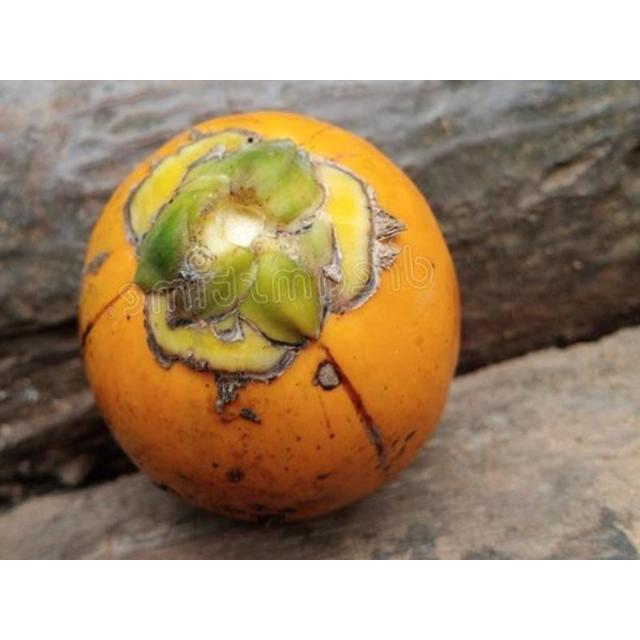good: (80, 110, 462, 525)
